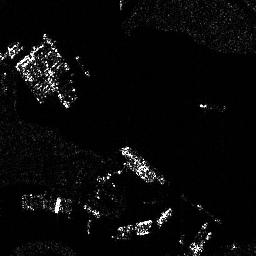ship: (122, 144, 166, 183)
